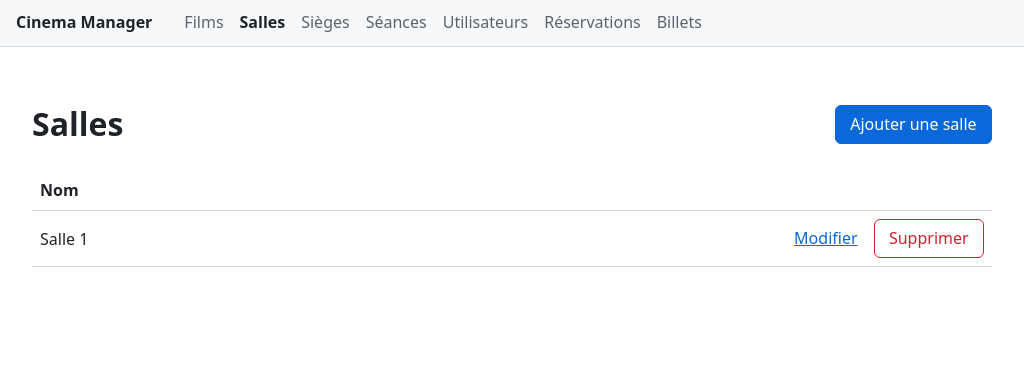
Test case: RoomsPage › explains why a room with screenings cannot be deleted
The width and height of the screenshot is (1024, 366).
Click the button "Supprimer" at {"x": 929, "y": 238}, box [874,219,984,258]
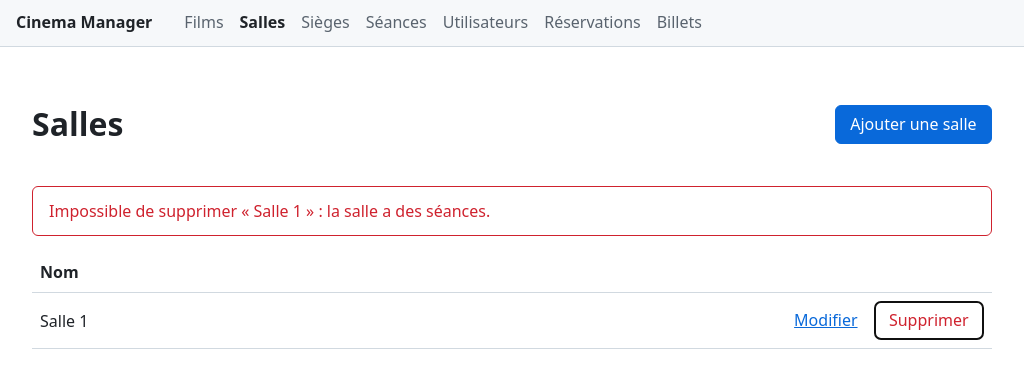
expect the message reads "Impossible de supprimer « Salle 1 » : la salle a des séances.": met, box [49,200,490,222]
